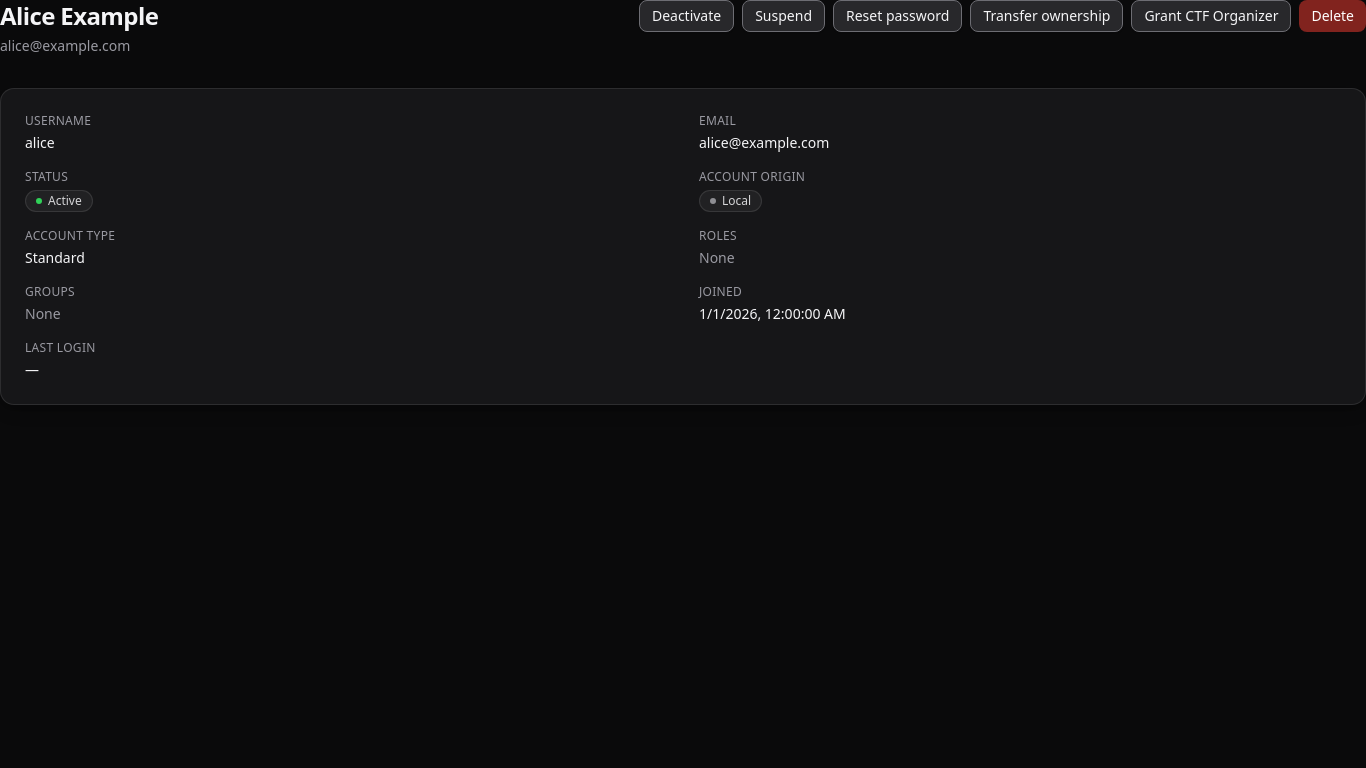
Test: UserDetailPage › surfaces the API error inside the confirm dialog on failure
The image size is (1366, 768).
Expected: the heading "Alice Example" is shown, x1=0 y1=0 x2=158 y2=32
Click the button "Delete": (1333,16) x1=1299 y1=0 x2=1365 y2=32
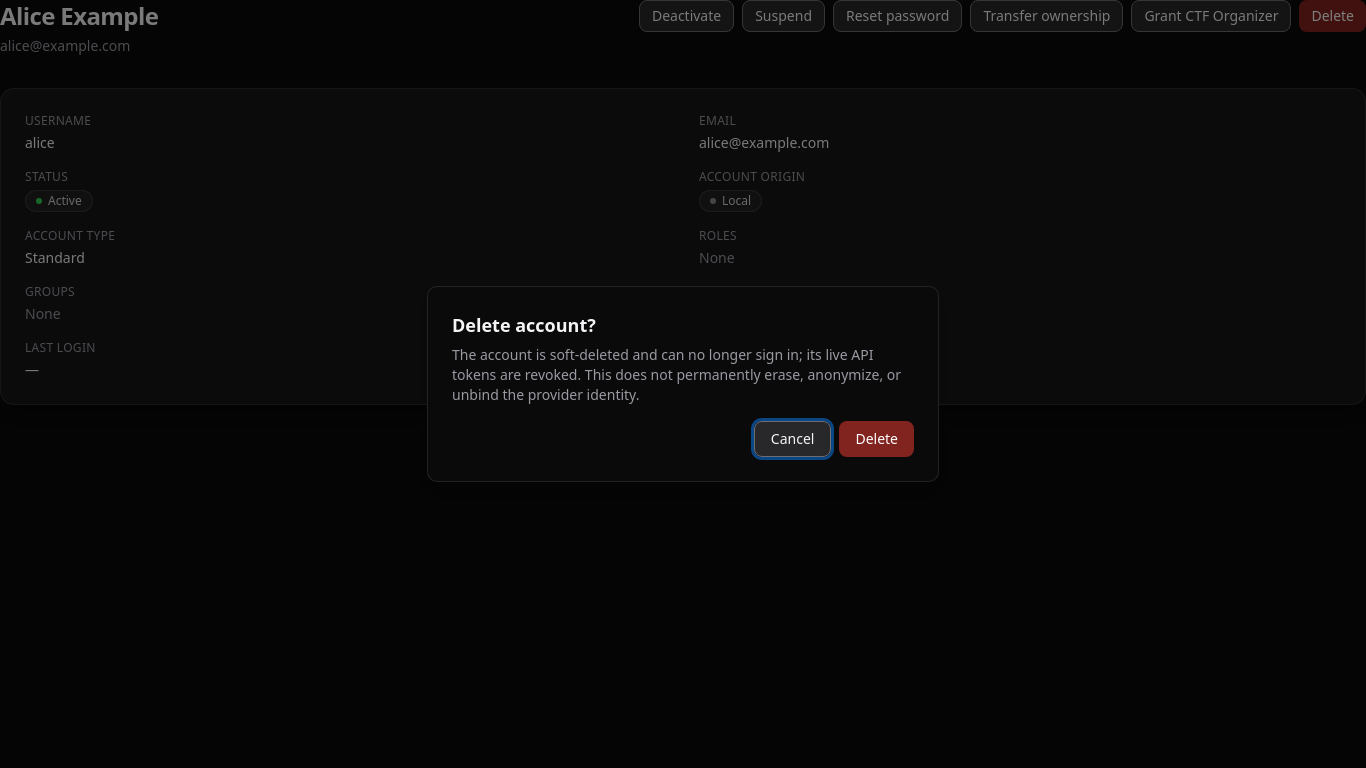
Click the button "Delete": (877,439) x1=839 y1=421 x2=914 y2=457
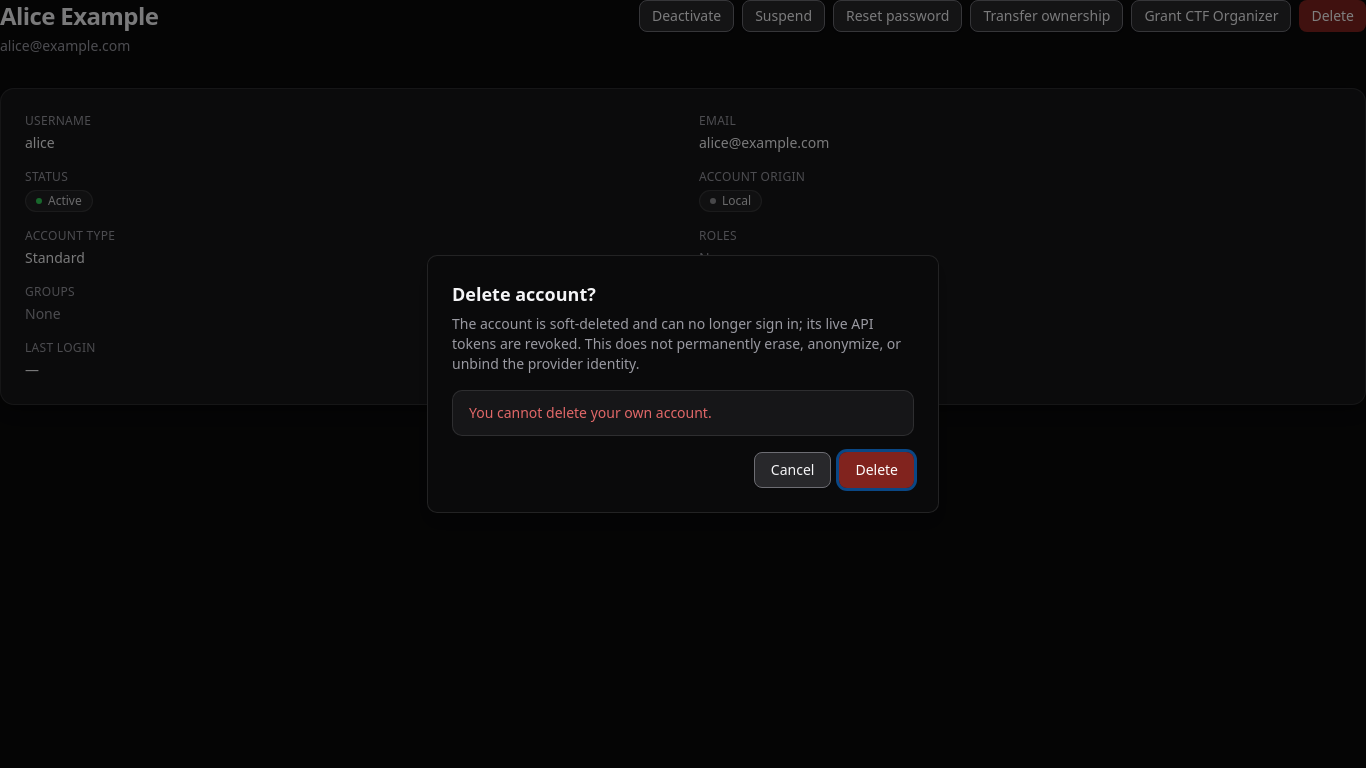
Result: the text "You cannot delete your own account." is shown at x1=469 y1=403 x2=712 y2=422
